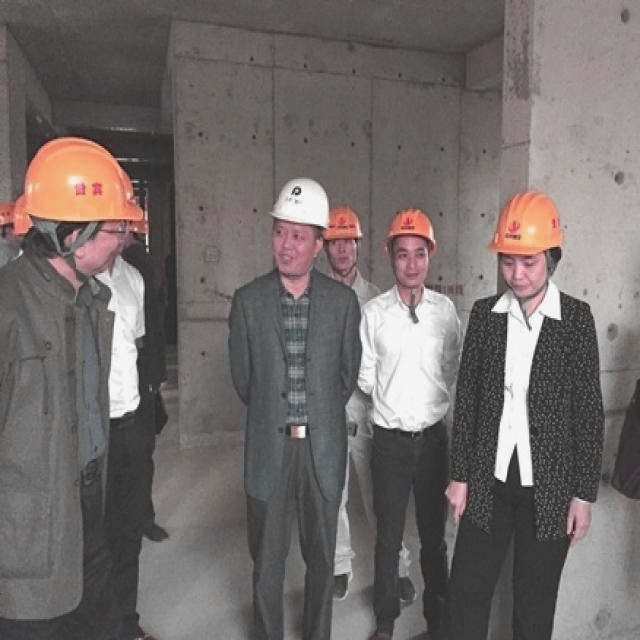Con_Casco: (492, 189, 565, 295), (387, 209, 437, 291)
Sin_Chaleco: (231, 270, 359, 451), (362, 290, 463, 434)
